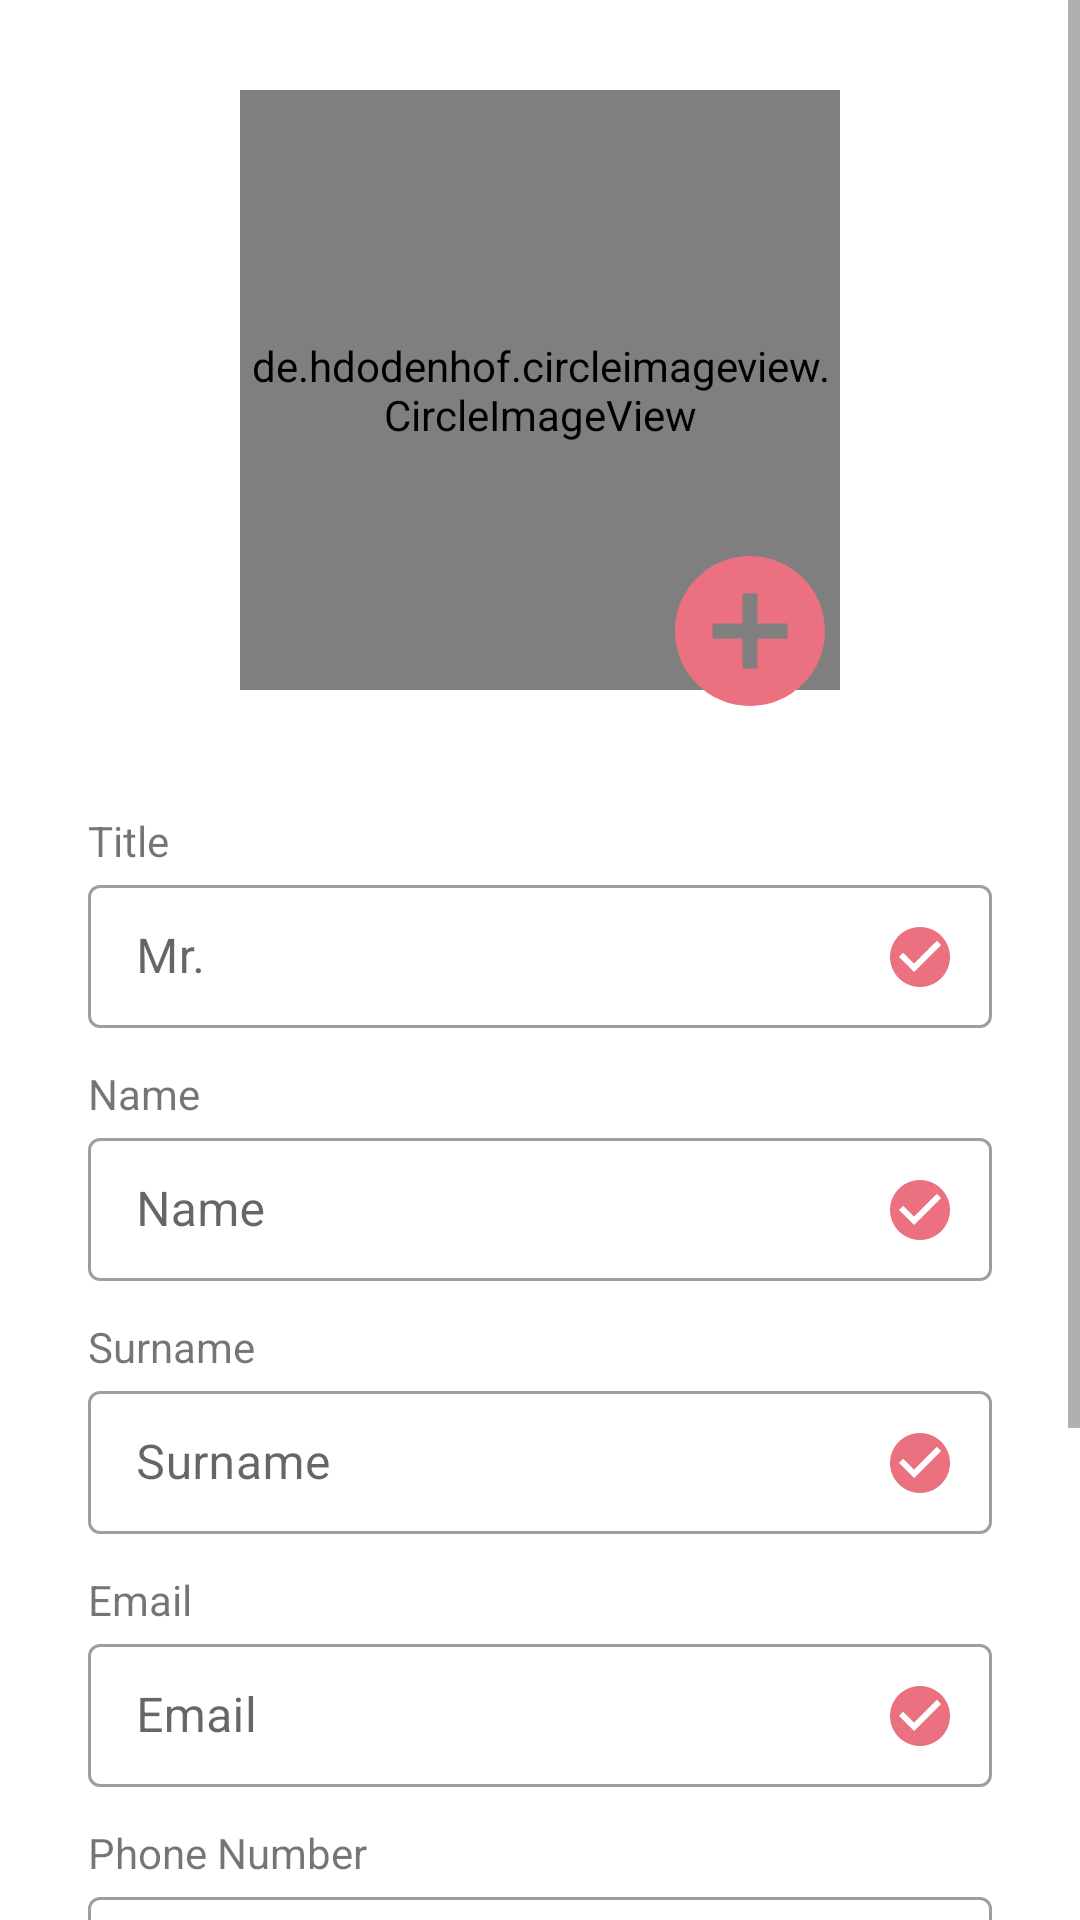

Icons on this 1080 x 1920 Android screen, each with the point to tap as point (x, y):
add circle: point (750, 631)
